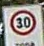limite 30: (8, 8, 36, 34)
